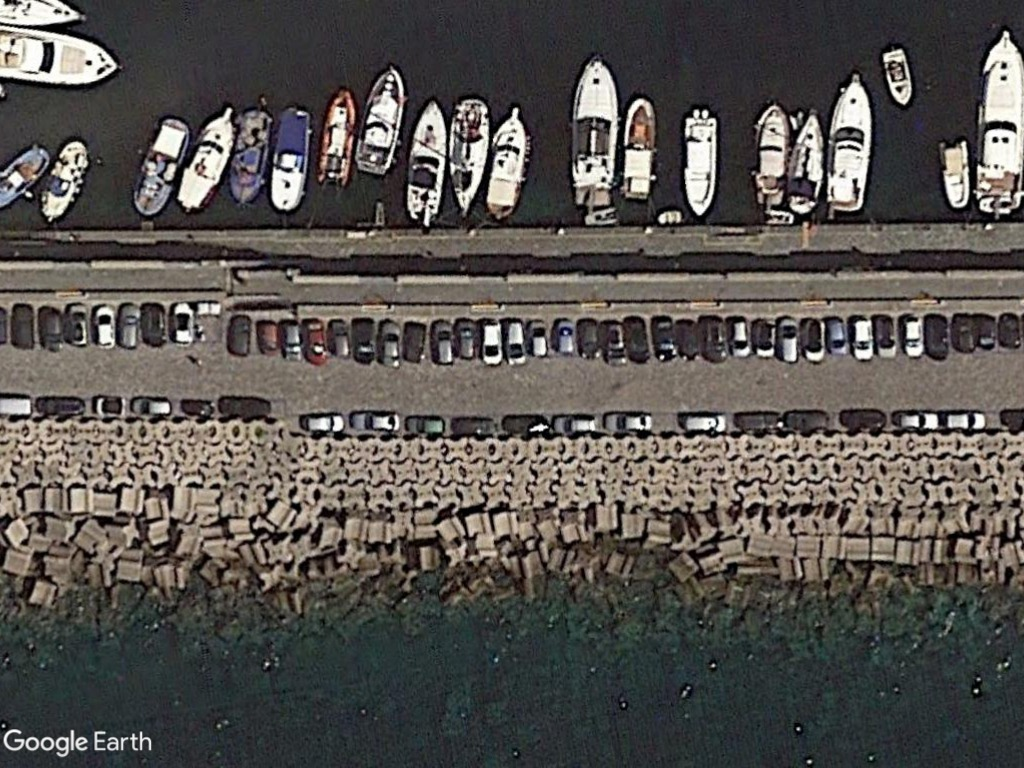boat: (968, 24, 1024, 217), (566, 52, 622, 209), (822, 72, 873, 214), (175, 102, 237, 216), (129, 114, 193, 219), (352, 62, 406, 177), (444, 93, 492, 219), (481, 106, 532, 224), (403, 93, 447, 225), (267, 100, 313, 218), (227, 102, 275, 213), (677, 106, 723, 221), (36, 135, 91, 224), (315, 82, 357, 194), (785, 109, 827, 219), (620, 91, 658, 203), (753, 98, 789, 211), (937, 138, 973, 211), (880, 42, 914, 108)
car: (774, 313, 803, 367), (347, 407, 402, 433), (680, 410, 731, 438), (500, 318, 529, 366), (430, 316, 456, 368), (92, 301, 118, 352), (891, 407, 942, 433), (602, 410, 655, 435), (899, 311, 926, 360), (479, 316, 504, 368), (942, 407, 989, 433), (118, 299, 141, 352), (551, 315, 578, 360), (403, 412, 448, 438), (727, 315, 753, 360), (300, 411, 347, 435), (825, 314, 850, 359), (550, 413, 598, 436), (851, 315, 874, 362), (128, 395, 173, 418), (527, 315, 549, 360)
